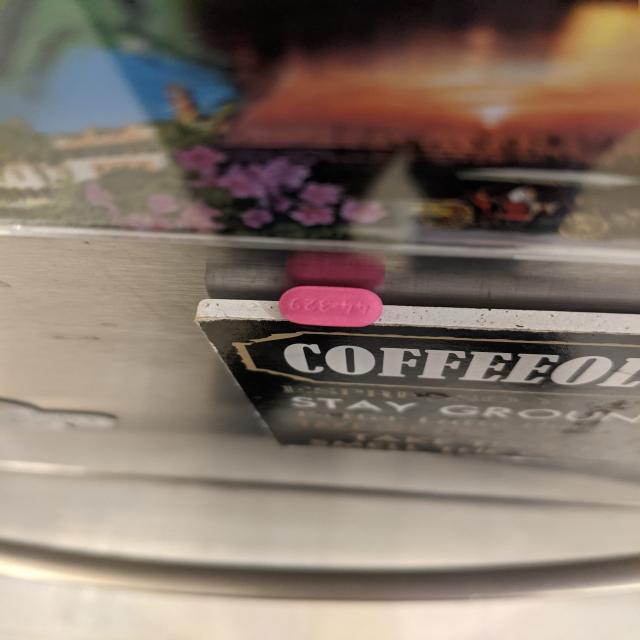non-organic waste: (278, 285, 383, 328)
